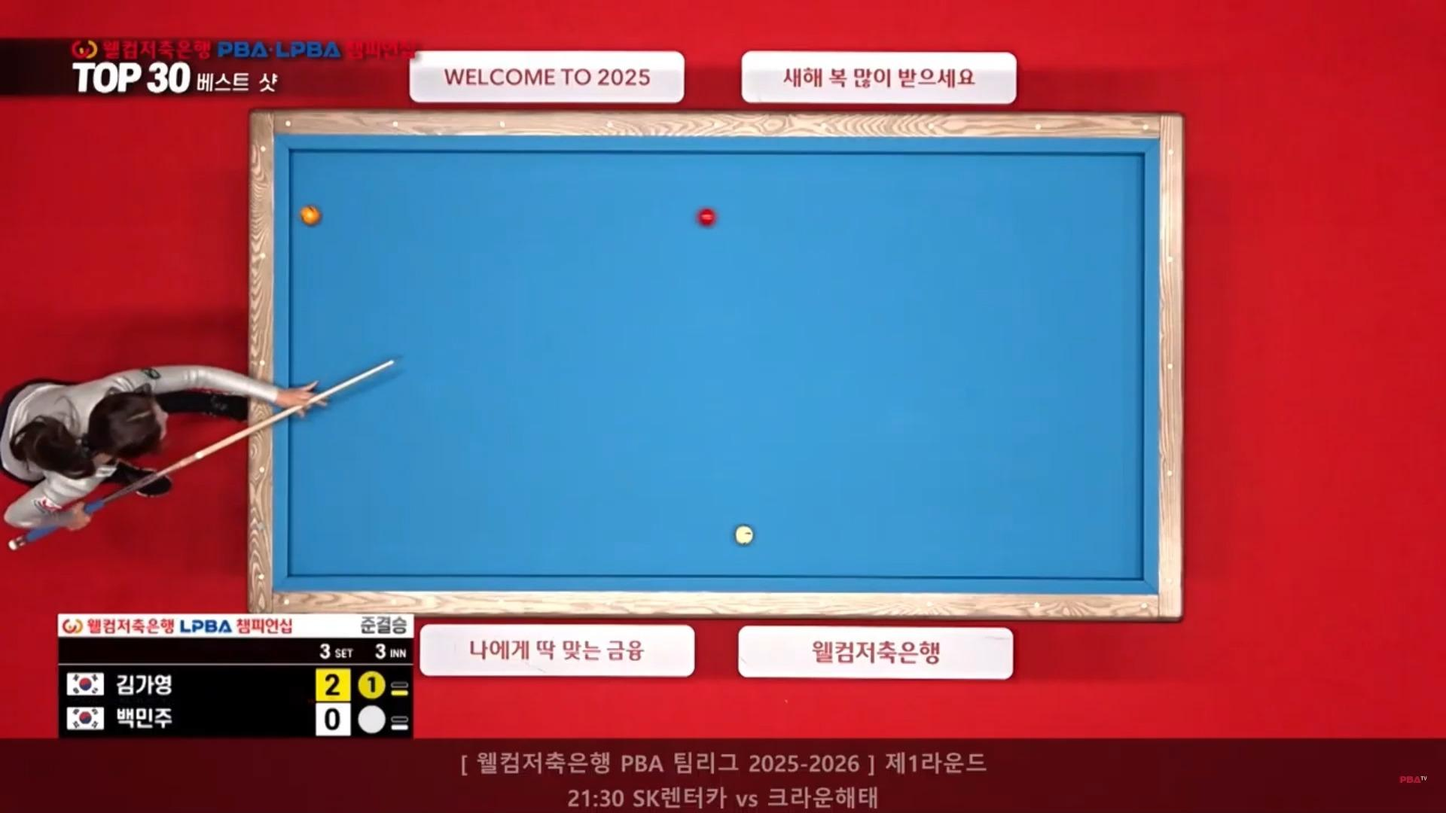Red: (697, 210, 720, 227)
White: (731, 526, 755, 546)
billiard-ball-Yellow: (300, 203, 321, 224)
